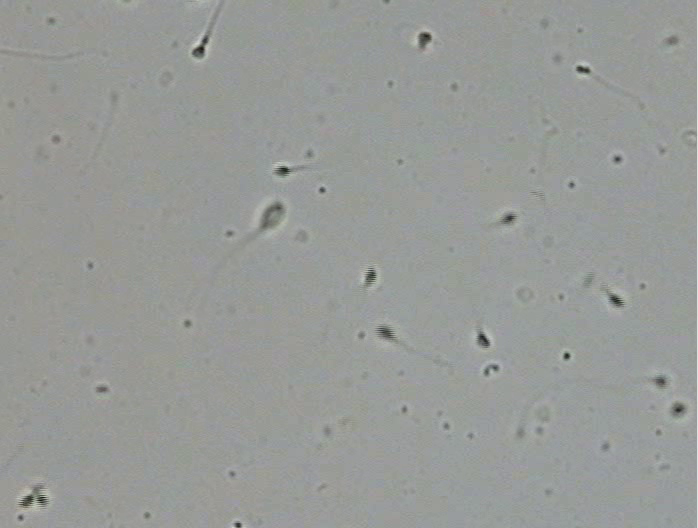S: (260, 202, 286, 229), (375, 325, 396, 341), (364, 266, 378, 286), (608, 292, 625, 308), (476, 332, 491, 349), (417, 32, 432, 48), (273, 165, 291, 178), (18, 495, 34, 508), (192, 45, 206, 59), (35, 493, 49, 507), (501, 212, 516, 224), (653, 375, 667, 387), (575, 65, 591, 74), (672, 404, 685, 415)
